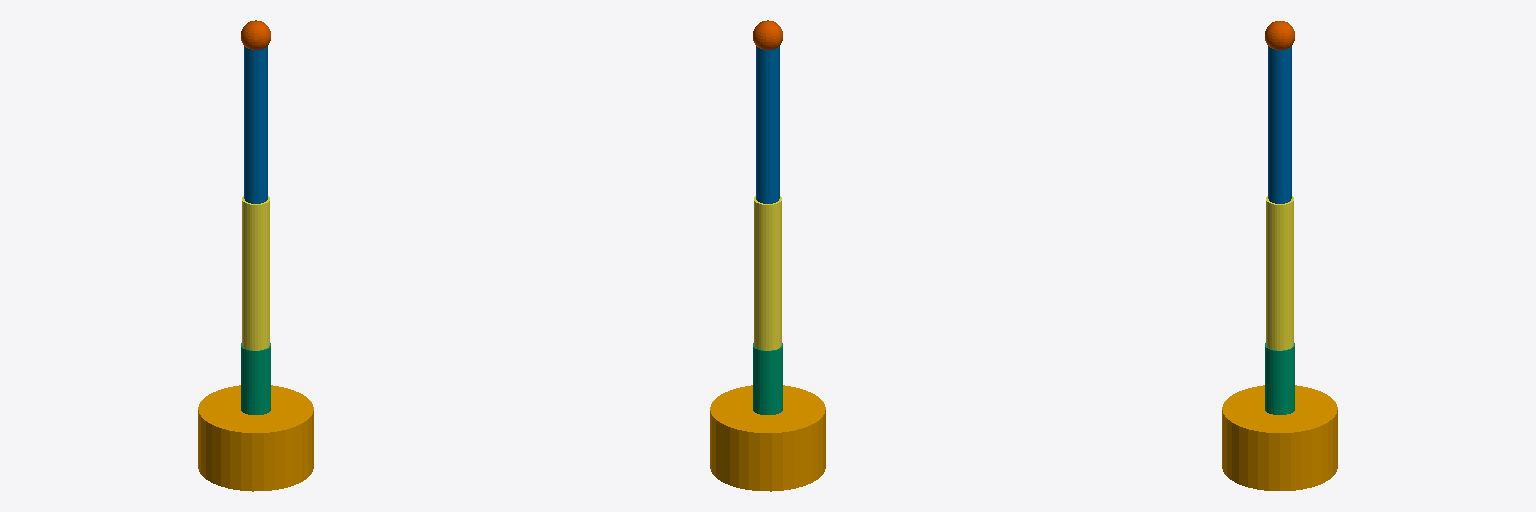
robot.urdf — four_dof_arm:
<?xml version="1.0"?>
<robot name="four_dof_arm">

  <link name="base_link">
    <visual>
      <origin xyz="0 0 0.025" rpy="0 0 0"/>
      <geometry>
        <cylinder radius="0.045" length="0.05"/>
      </geometry>
    </visual>
  </link>

  <!-- CH14: base rotation about Z -->
  <link name="base_yaw_link"/>

  <joint name="joint_14" type="revolute">
    <parent link="base_link"/>
    <child link="base_yaw_link"/>
    <origin xyz="0 0 0" rpy="0 0 0"/>
    <axis xyz="0 0 1"/>
    <limit lower="-1.57079632679" upper="1.57079632679"
           effort="5" velocity="2"/>
  </joint>

  <!-- CH13: shoulder about X, at the same origin as CH14 -->
  <link name="upper_arm_link">
    <visual>
      <origin xyz="0 0 0.0525" rpy="0 0 0"/>
      <geometry>
        <cylinder radius="0.012" length="0.105"/>
      </geometry>
    </visual>
  </link>

  <joint name="joint_13" type="revolute">
    <parent link="base_yaw_link"/>
    <child link="upper_arm_link"/>
    <origin xyz="0 0 0" rpy="0 0 0"/>
    <axis xyz="1 0 0"/>
    <limit lower="-0.78539816339" upper="0.78539816339"
           effort="5" velocity="2"/>
  </joint>

  <!-- 10.5 cm from CH13 to CH15 -->
  <link name="forearm_link">
    <visual>
      <origin xyz="0 0 0.0625" rpy="0 0 0"/>
      <geometry>
        <cylinder radius="0.011" length="0.125"/>
      </geometry>
    </visual>
  </link>

  <joint name="joint_15" type="revolute">
    <parent link="upper_arm_link"/>
    <child link="forearm_link"/>
    <origin xyz="0 0 0.105" rpy="0 0 0"/>
    <axis xyz="1 0 0"/>
    <limit lower="0" upper="1.57079632679"
           effort="5" velocity="2"/>
  </joint>

  <!-- 12.5 cm from CH15 to CH4 -->
  <link name="wrist_link">
    <visual>
      <origin xyz="0 0 0.07" rpy="0 0 0"/>
      <geometry>
        <cylinder radius="0.009" length="0.14"/>
      </geometry>
    </visual>
  </link>

  <joint name="joint_4" type="revolute">
    <parent link="forearm_link"/>
    <child link="wrist_link"/>
    <origin xyz="0 0 0.125" rpy="0 0 0"/>
    <axis xyz="1 0 0"/>
    <limit lower="0" upper="1.57079632679"
           effort="5" velocity="2"/>
  </joint>

  <!-- 14 cm from CH4 to the end effector -->
  <link name="end_effector_link">
    <visual>
      <geometry>
        <sphere radius="0.012"/>
      </geometry>
    </visual>
  </link>

  <joint name="tool_fixed" type="fixed">
    <parent link="wrist_link"/>
    <child link="end_effector_link"/>
    <origin xyz="0 0 0.14" rpy="0 0 0"/>
  </joint>

</robot>

--- Facts derived from the render (not from the file) ---
The picture shows the robot from 3 angles, left to right: view 1: azimuth 30°, elevation 25°; view 2: azimuth 150°, elevation 25°; view 3: azimuth 270°, elevation 25°; orthographic projection.
Robot: four_dof_arm — 6 links, 5 joints (4 revolute, 1 fixed); root link base_link; default pose: every joint at zero.
Visible links, largest first — view 1: base_link, forearm_link, wrist_link, upper_arm_link, end_effector_link; view 2: base_link, forearm_link, wrist_link, upper_arm_link, end_effector_link; view 3: base_link, forearm_link, wrist_link, upper_arm_link, end_effector_link.
Boxes of the visible links, x1,y1,x2,y2 form: base_link: (198,385,313,491); forearm_link: (242,196,269,350); wrist_link: (244,46,267,203); upper_arm_link: (241,343,270,414); end_effector_link: (241,20,270,49); base_link: (710,385,825,491); forearm_link: (754,196,781,350); wrist_link: (756,46,779,203); upper_arm_link: (753,343,782,414); end_effector_link: (753,20,782,49); base_link: (1222,385,1337,490); forearm_link: (1266,196,1293,350); wrist_link: (1268,46,1291,203); upper_arm_link: (1265,343,1294,414); end_effector_link: (1265,21,1294,49).
Size in the robot's own frame: 0.09 by 0.09 by 0.382 metres.
Geometry: primitives only (box / cylinder / sphere), no mesh files.
